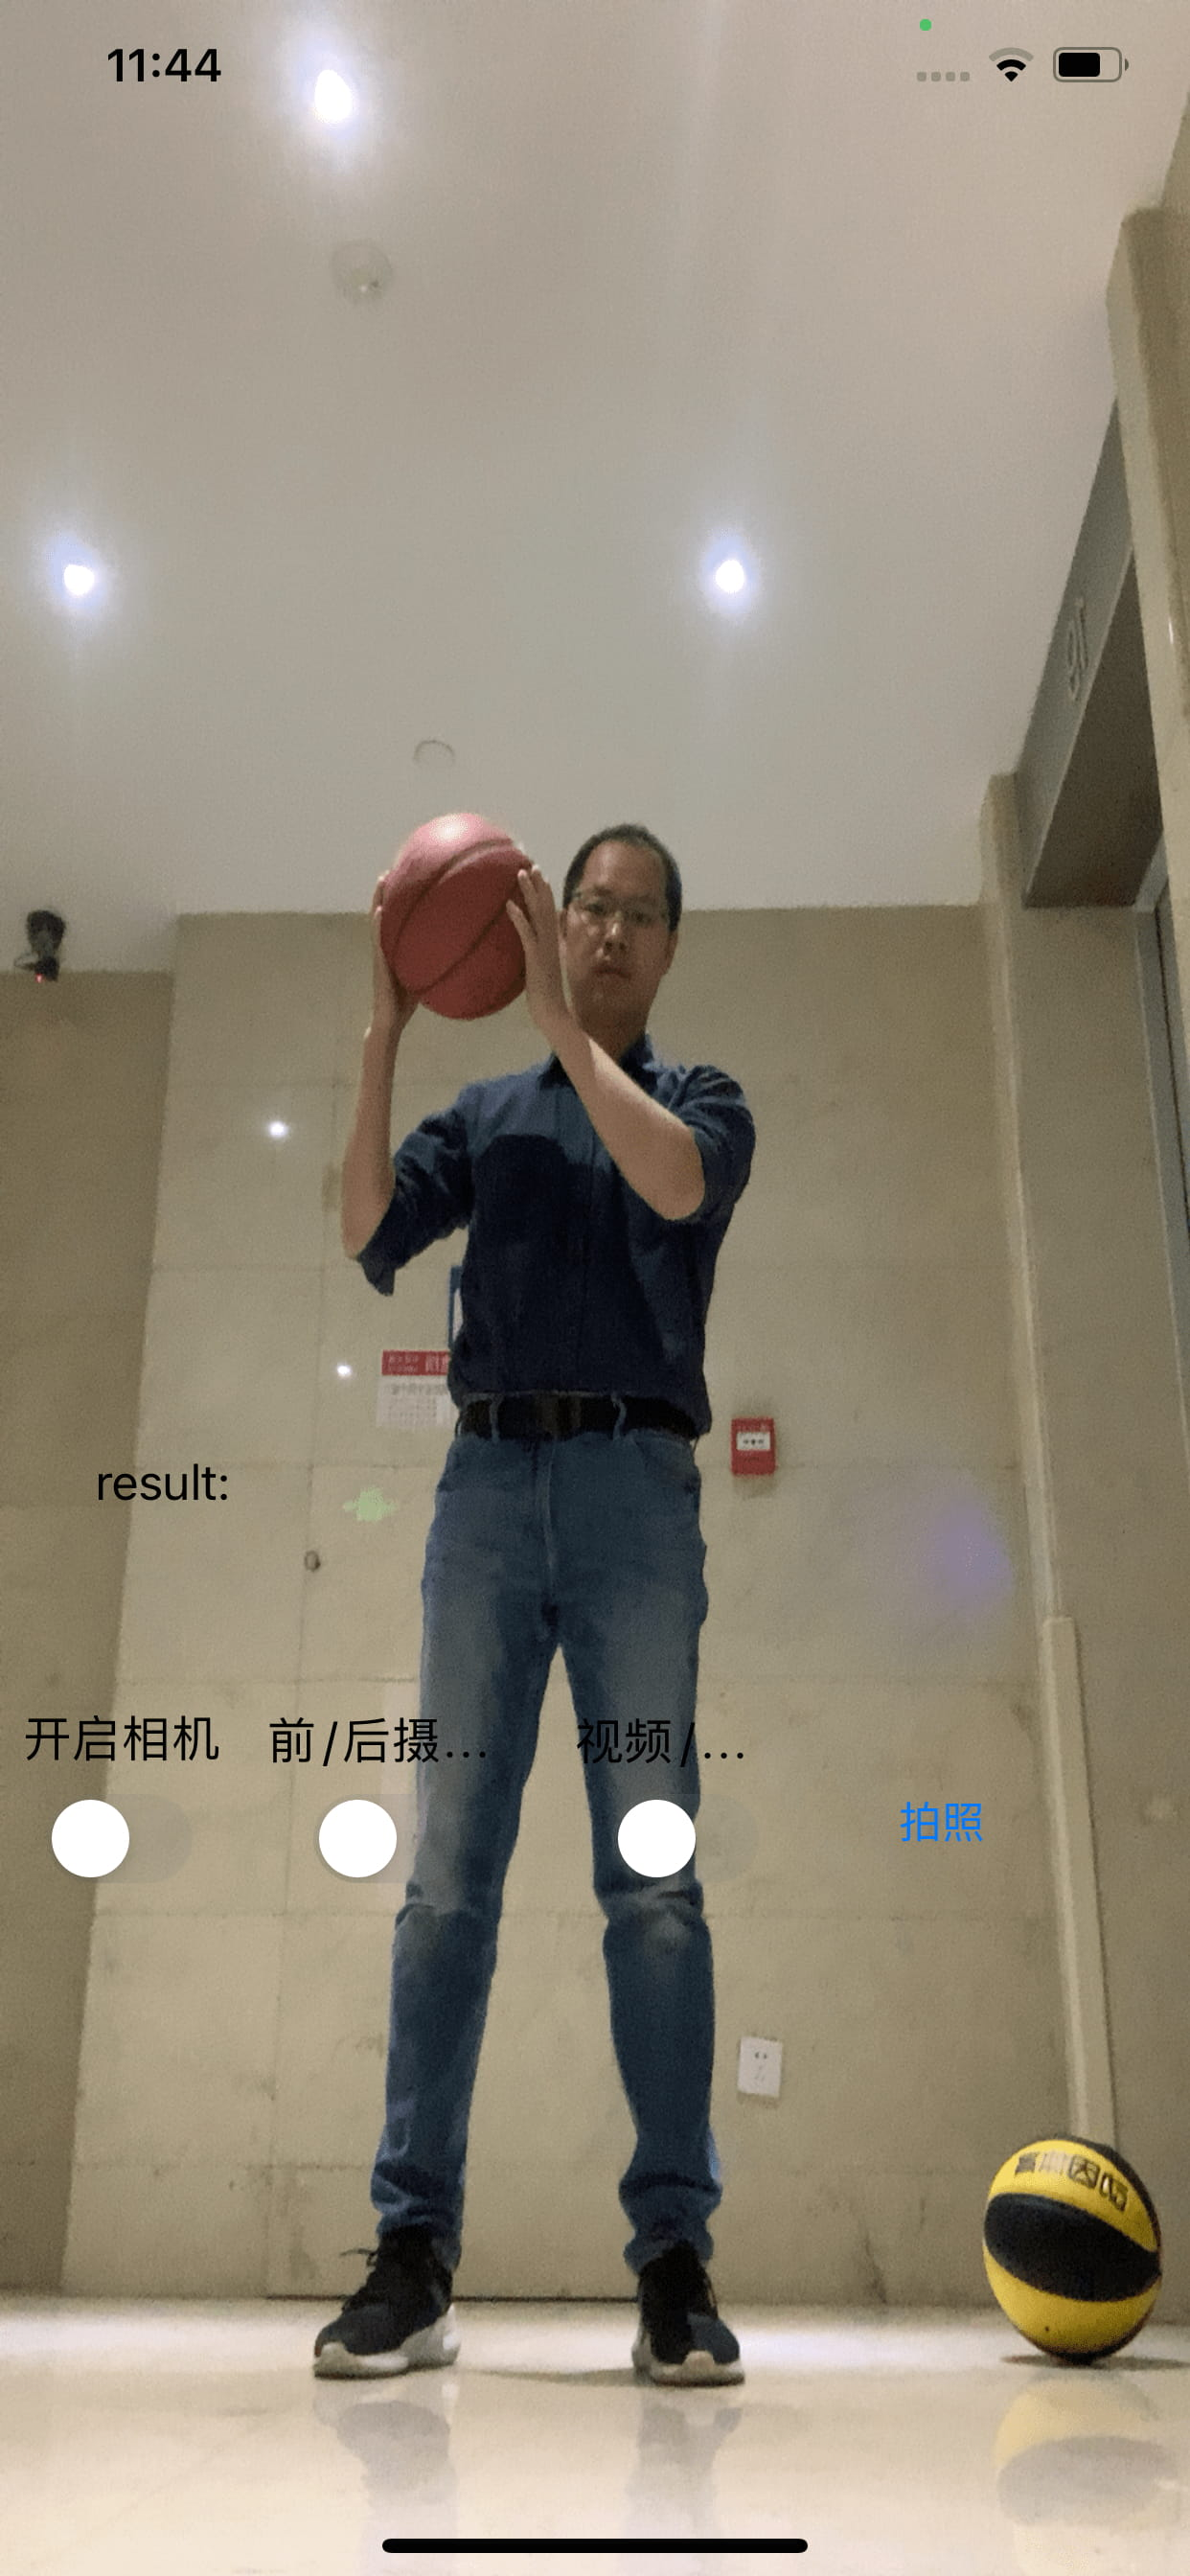ball: (978, 2139, 1162, 2361), (378, 813, 542, 1015)
